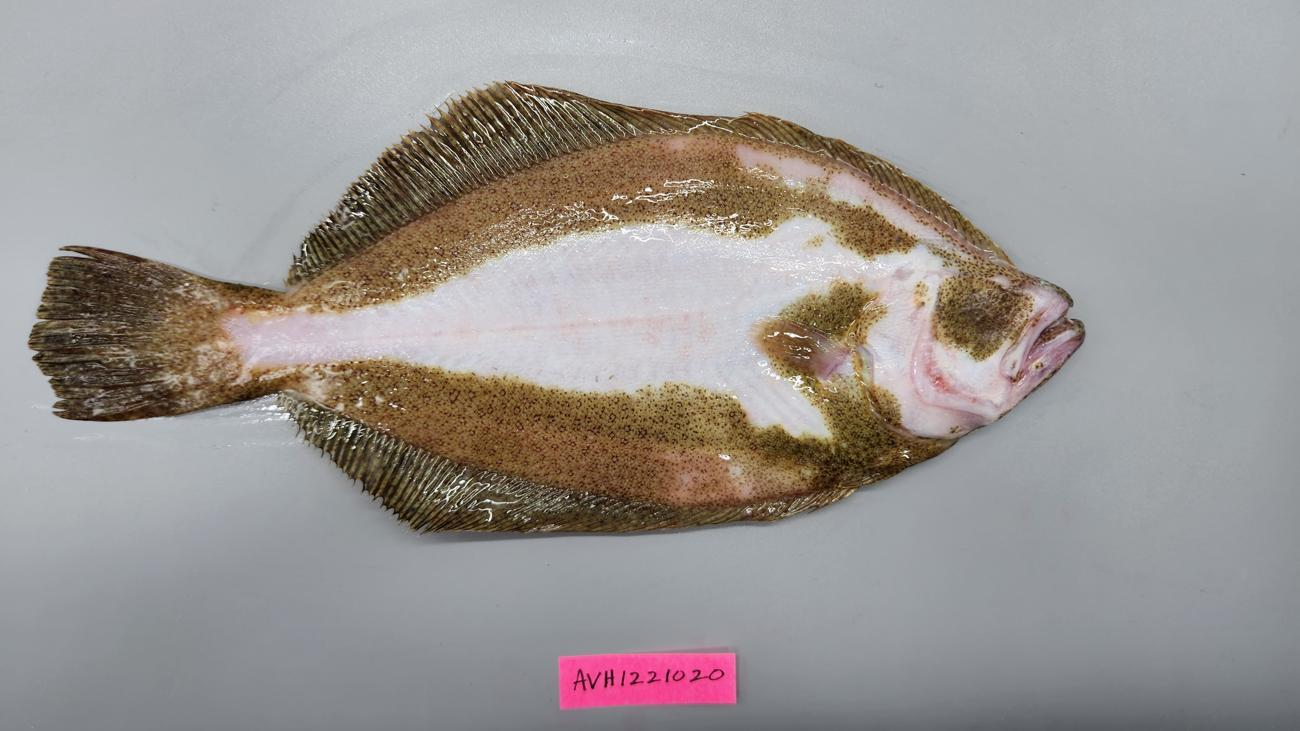VIDYH: (201, 134, 992, 506), (751, 318, 844, 382)
VIFAH: (337, 454, 792, 533)
VIFCH: (50, 247, 181, 417)
VIOUY: (31, 80, 1084, 534)
